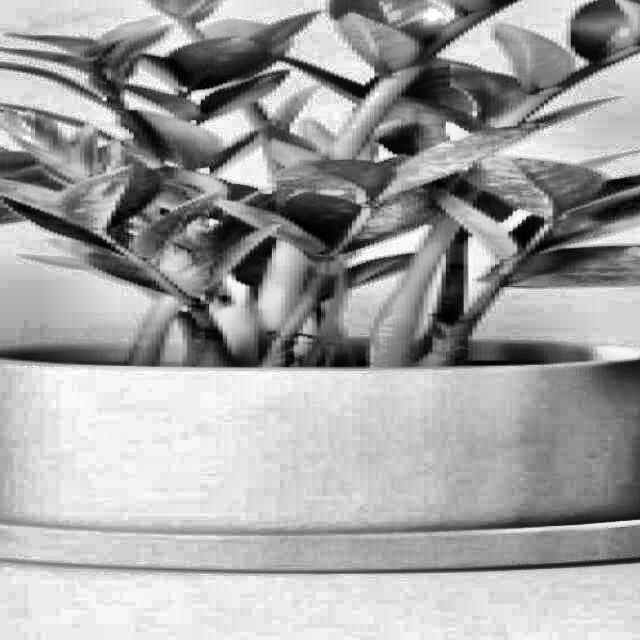plants: (0, 0, 559, 308)
